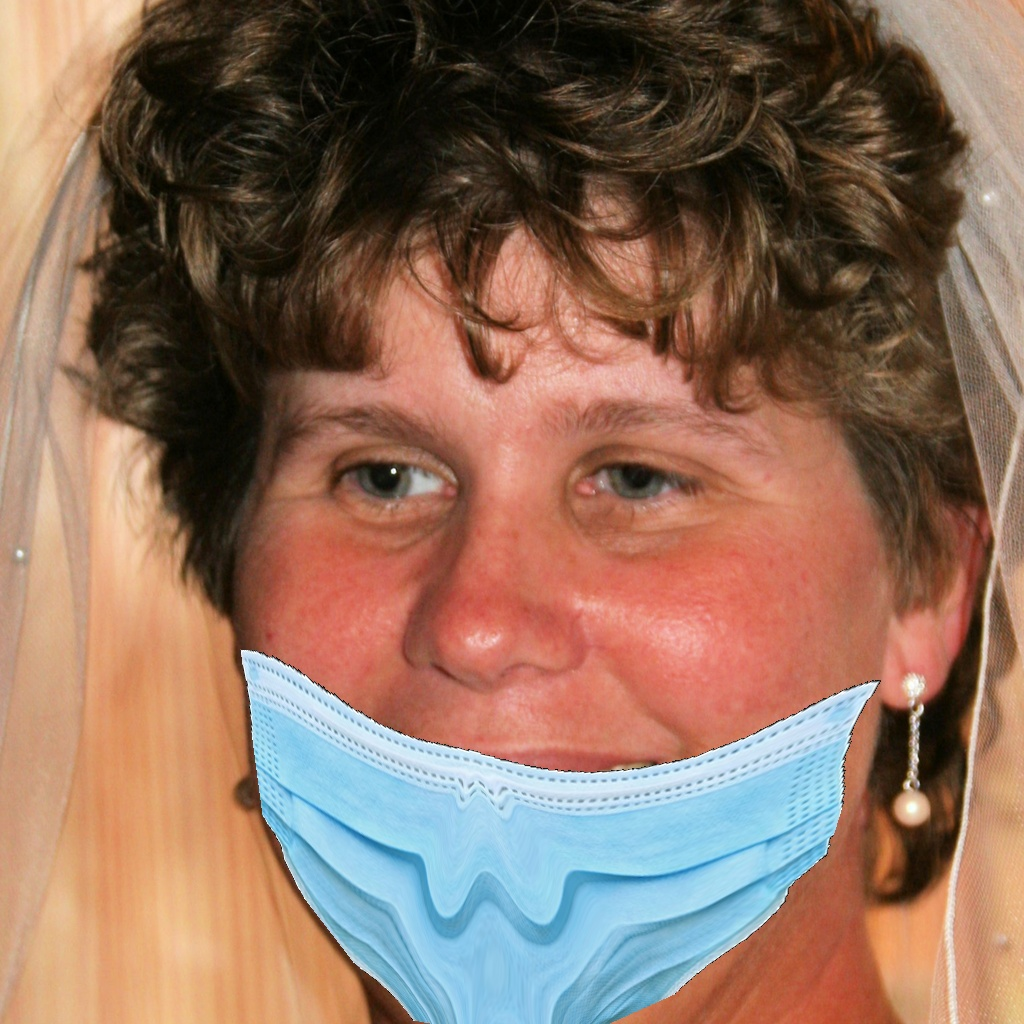mask_weared_incorrect: (195, 378, 931, 1024)
